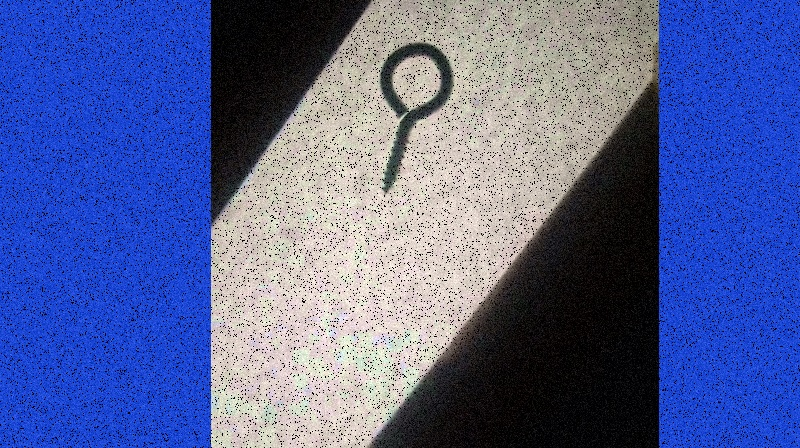O001: (377, 39, 457, 197)
